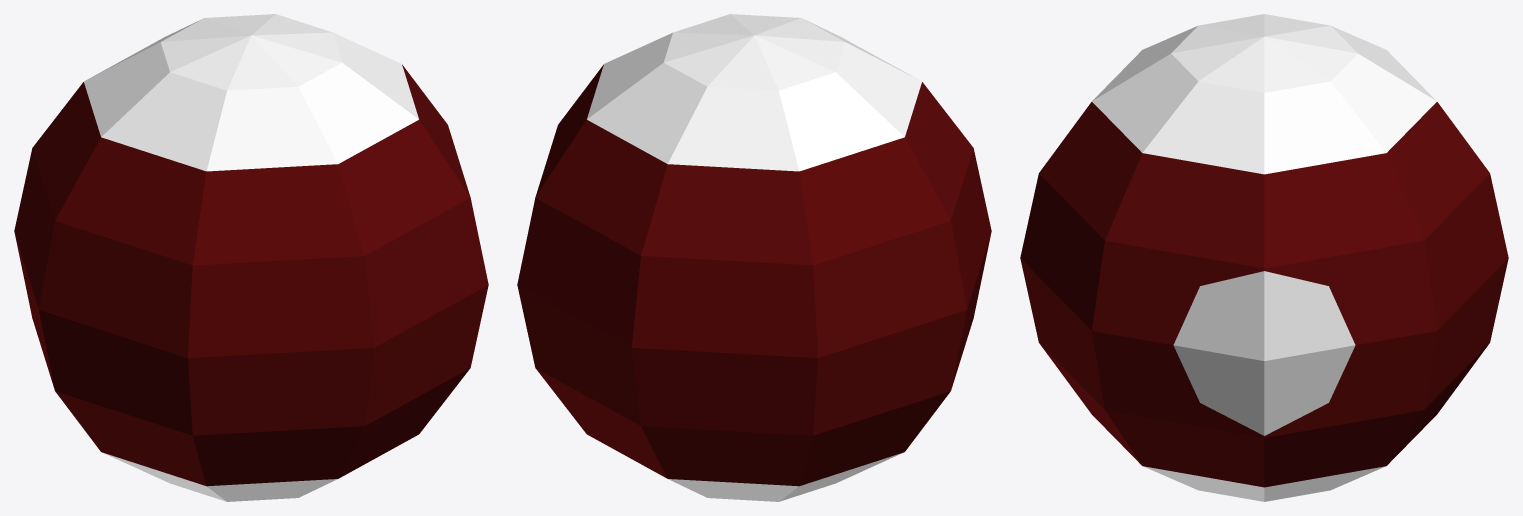
The model's file is vinho2.obj.
3 views of the same model, side by side, from view 1: azimuth 30°, elevation 25°; view 2: azimuth 150°, elevation 25°; view 3: azimuth 270°, elevation 25° (orthographic).
Parts seen in each view (by area): view 1: all_balls.014; view 2: all_balls.014; view 3: all_balls.014.
Boxes of the visible parts, box(x1,y1,x2,y2) form: all_balls.014: box(14, 14, 488, 501); all_balls.014: box(517, 14, 991, 501); all_balls.014: box(1020, 14, 1508, 501).
Bounding box in the file's own units: 0.3459 × 0.3459 × 0.3459.
